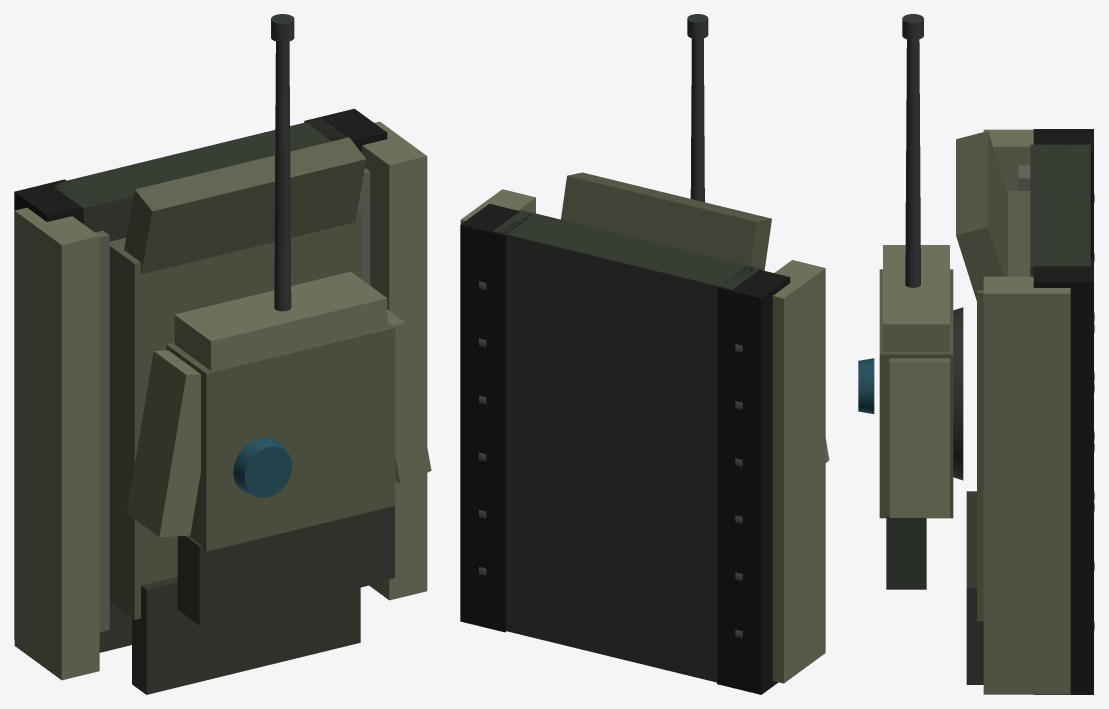
3 renders of one model, left to right at view 1: azimuth 30°, elevation 25°; view 2: azimuth 150°, elevation 25°; view 3: azimuth 270°, elevation 25°, orthographic. The views are drawn at different scales.
Parts seen in each view (by area): view 1: left_dorchester_skirt, massive_turret_core, heavy_hull_upper, broad_front_glacis, turret_rear_bin, right_dorchester_skirt, rear_engine_deck, flat_front_armor_face, left_turret_slab, heavy_hull_lower, left_track_guard, barrel_tube (+6 smaller); view 2: heavy_hull_lower, left_track_rubber, left_dorchester_skirt, right_track_rubber, broad_front_glacis, barrel_tube, right_dorchester_skirt; view 3: right_dorchester_skirt, right_track_rubber, right_turret_slab, heavy_hull_lower, broad_front_glacis, flat_front_armor_face, heavy_hull_upper, barrel_tube, massive_turret_core, turret_rear_bin, rear_engine_deck, turret_ring (+4 smaller).
Boxes of the visible parts, <box> form: left_dorchester_skirt: <box>14,207,99,680</box>; massive_turret_core: <box>166,322,395,551</box>; heavy_hull_upper: <box>109,206,361,619</box>; broad_front_glacis: <box>124,137,366,274</box>; turret_rear_bin: <box>177,506,394,625</box>; right_dorchester_skirt: <box>362,121,427,600</box>; rear_engine_deck: <box>132,576,360,694</box>; flat_front_armor_face: <box>174,271,387,370</box>; left_turret_slab: <box>126,350,200,537</box>; heavy_hull_lower: <box>53,118,354,652</box>; left_track_guard: <box>95,230,109,631</box>; barrel_tube: <box>274,41,291,311</box>; heavy_hull_lower: <box>493,210,761,682</box>; left_track_rubber: <box>717,266,790,694</box>; left_dorchester_skirt: <box>772,260,825,683</box>; right_track_rubber: <box>460,203,533,632</box>; broad_front_glacis: <box>561,172,771,270</box>; barrel_tube: <box>690,38,704,202</box>; right_dorchester_skirt: <box>460,189,535,224</box>; right_dorchester_skirt: <box>983,276,1070,694</box>; right_track_rubber: <box>1033,259,1093,694</box>; right_turret_slab: <box>889,358,949,517</box>; heavy_hull_lower: <box>1030,144,1090,276</box>; broad_front_glacis: <box>956,131,1008,300</box>; flat_front_armor_face: <box>883,245,949,351</box>; heavy_hull_upper: <box>977,191,1030,620</box>; barrel_tube: <box>905,39,920,287</box>; massive_turret_core: <box>879,269,953,518</box>; turret_rear_bin: <box>886,515,926,589</box>; rear_engine_deck: <box>966,491,983,684</box>; turret_ring: <box>953,307,963,480</box>.
Bounding box in the file's own units: 58 × 102 × 35.3.
